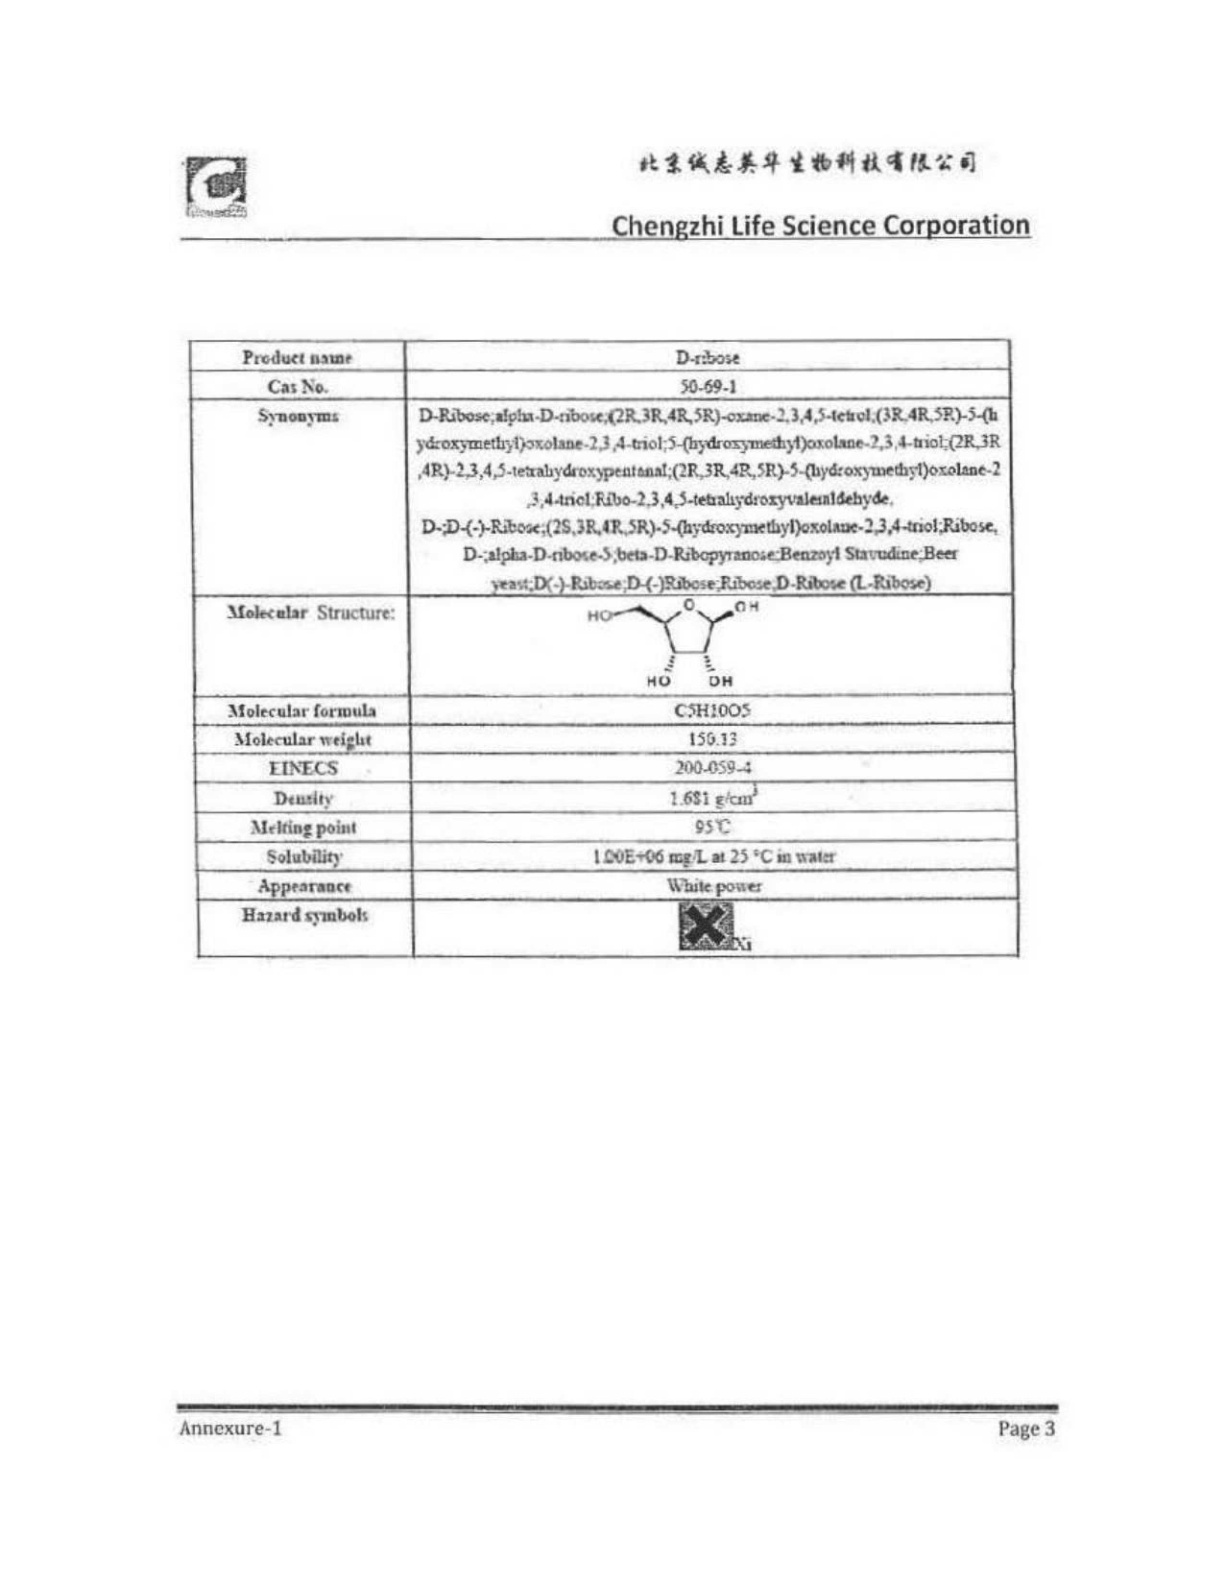full_lined: (187, 339, 1021, 958)
